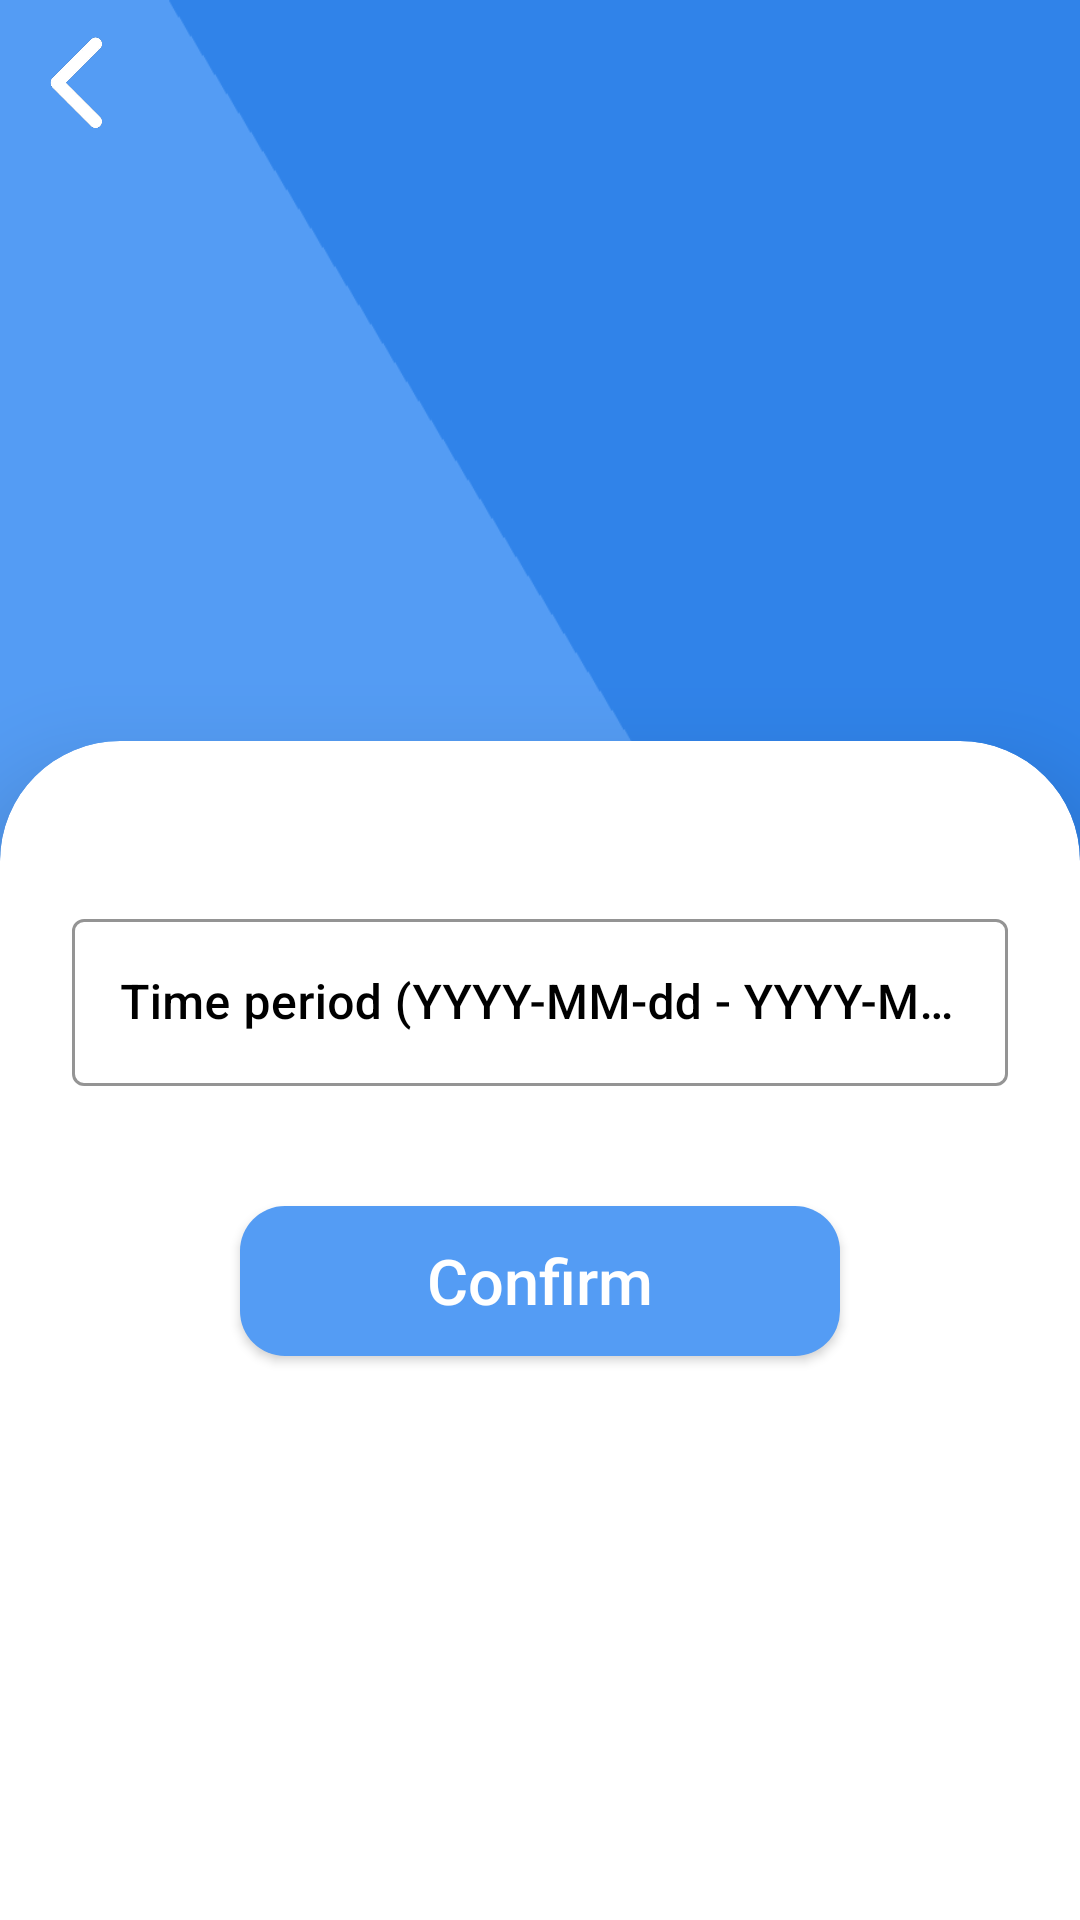

Locate icon controls on the screen. Image size 1080×1920, boxes as (x1, y1, x2, y2).
back: (51, 37, 102, 128)
